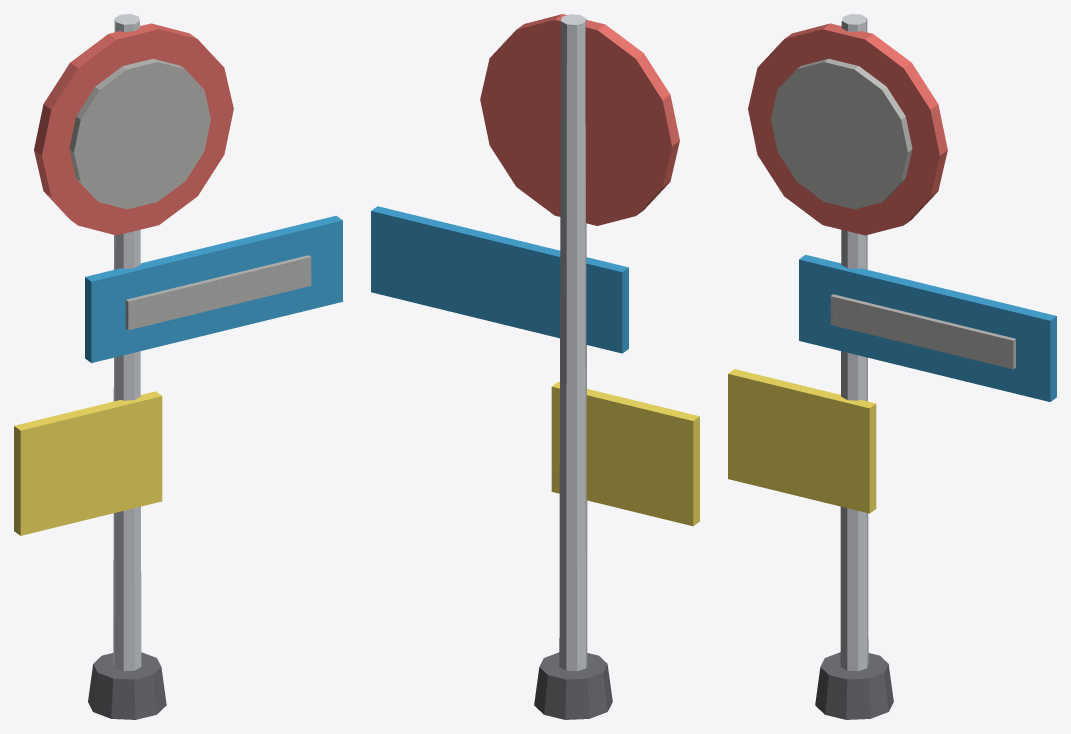
Rendered from Road_Sign_Set.glb.
The picture shows the model from 3 angles, left to right: view 1: azimuth 30°, elevation 25°; view 2: azimuth 150°, elevation 25°; view 3: azimuth 330°, elevation 25°; orthographic projection.
Parts seen in each view (by area): view 1: road-sign-set-concrete, road-sign-set-azure, road-sign-set-canary, road-sign-set-crimson, road-sign-set-steel, road-sign-set-charcoal; view 2: road-sign-set-crimson, road-sign-set-azure, road-sign-set-steel, road-sign-set-canary, road-sign-set-charcoal; view 3: road-sign-set-concrete, road-sign-set-azure, road-sign-set-canary, road-sign-set-crimson, road-sign-set-steel, road-sign-set-charcoal.
Part boxes in pixels (x1,y1,x2,y2): road-sign-set-concrete: (69,58,311,330); road-sign-set-azure: (85,215,342,362); road-sign-set-canary: (14,391,162,535); road-sign-set-crimson: (34,23,233,235); road-sign-set-steel: (113,14,141,671); road-sign-set-charcoal: (88,652,166,719); road-sign-set-crimson: (480,14,679,225); road-sign-set-azure: (371,206,628,353); road-sign-set-steel: (559,14,587,671); road-sign-set-canary: (551,381,699,526); road-sign-set-charcoal: (534,652,612,719); road-sign-set-concrete: (771,58,1015,369); road-sign-set-azure: (799,254,1056,401); road-sign-set-canary: (728,369,876,513); road-sign-set-crimson: (748,23,947,235); road-sign-set-steel: (840,14,868,671); road-sign-set-charcoal: (815,652,893,719).
Bounding box in the file's own units: 1.41 × 2.86 × 0.2853.
Materials: 6 (1 with a texture image).
